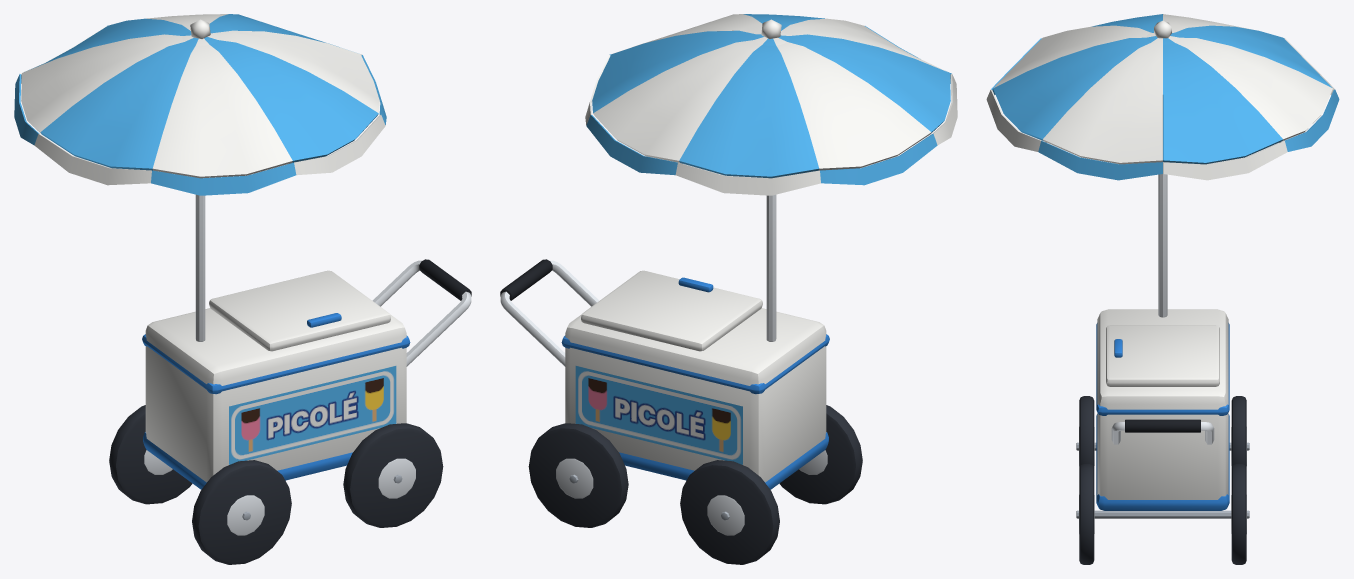
File: carrinho_picole.glb
3 renders of one model, left to right at view 1: azimuth 30°, elevation 25°; view 2: azimuth 150°, elevation 25°; view 3: azimuth 270°, elevation 25°, orthographic. The views are drawn at different scales.
Parts seen in each view (by area): view 1: carrinho_picole, tampa; view 2: carrinho_picole, tampa; view 3: carrinho_picole, tampa.
Boxes of the visible parts, bbox=[...] form: carrinho_picole: bbox=[14, 14, 471, 564]; tampa: bbox=[209, 270, 390, 351]; carrinho_picole: bbox=[500, 14, 957, 564]; tampa: bbox=[581, 270, 762, 351]; carrinho_picole: bbox=[986, 14, 1339, 564]; tampa: bbox=[1106, 325, 1219, 386].
Bounding box in the file's own units: 2.09 × 2.46 × 1.67.
2 materials, 2 textured.
